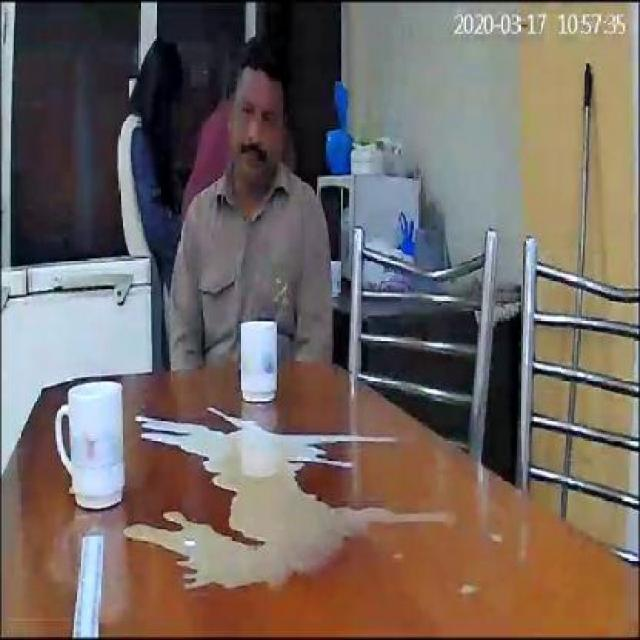spill: (120, 477, 445, 588)
